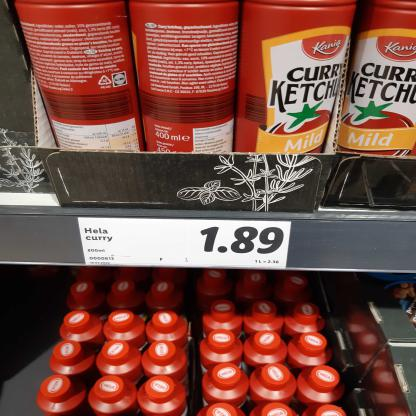prtg: (79, 219, 292, 270)
